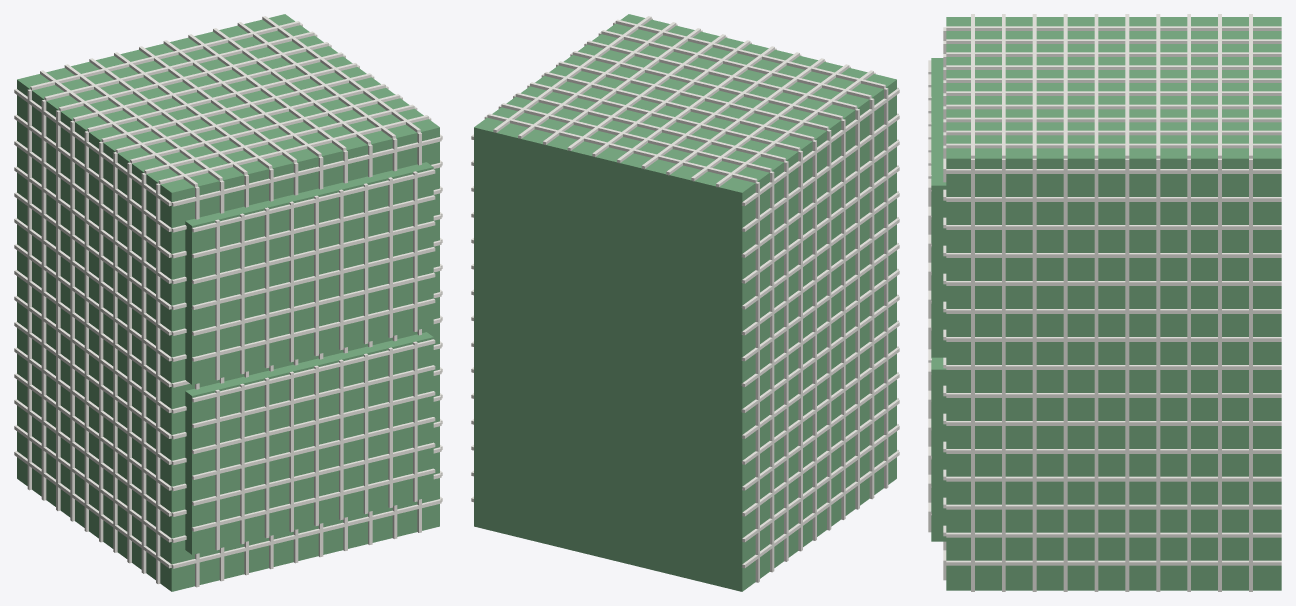
Rendered from store-nightstand-green.glb.
3 views of the same model, side by side, from view 1: azimuth 30°, elevation 25°; view 2: azimuth 150°, elevation 25°; view 3: azimuth 270°, elevation 25° (orthographic). The views are drawn at different scales.
Visible parts, largest first — view 1: nightstand-body, nightstand-drawer-0, nightstand-drawer-1, nightstand-body-left-z-1, nightstand-body-left-z-8, nightstand-body-left-z-7, nightstand-body-left-z-3, nightstand-body-left-z-0, nightstand-body-left-z-4, nightstand-body-left-z-6, nightstand-body-left-z-2, nightstand-body-left-z-9 (+68 smaller); view 2: nightstand-body, nightstand-body-left-z-8, nightstand-body-left-z-2, nightstand-body-left-z-3, nightstand-body-left-z-9, nightstand-body-left-z-4, nightstand-body-left-z-7, nightstand-body-left-z-0, nightstand-body-left-z-1, nightstand-body-left-z-5, nightstand-body-left-z-6, nightstand-body-top-z-9 (+34 smaller); view 3: nightstand-body, nightstand-drawer-1, nightstand-drawer-0, nightstand-body-right-z-3, nightstand-body-right-z-6, nightstand-body-right-z-7, nightstand-body-right-z-4, nightstand-body-right-z-5, nightstand-body-top-x-6, nightstand-body-right-y-3, nightstand-body-top-x-9, nightstand-body-right-y-0 (+36 smaller).
Boxes of the visible parts, bbox=[...] form: nightstand-body: bbox=[17, 14, 439, 591]; nightstand-drawer-0: bbox=[185, 332, 433, 554]; nightstand-drawer-1: bbox=[185, 162, 433, 384]; nightstand-body-left-z-1: bbox=[41, 99, 46, 500]; nightstand-body-left-z-8: bbox=[141, 173, 146, 573]; nightstand-body-left-z-7: bbox=[127, 162, 131, 563]; nightstand-body-left-z-3: bbox=[70, 120, 74, 521]; nightstand-body-left-z-0: bbox=[27, 89, 31, 490]; nightstand-body-left-z-4: bbox=[84, 131, 88, 531]; nightstand-body-left-z-6: bbox=[113, 152, 117, 552]; nightstand-body-left-z-2: bbox=[56, 110, 60, 510]; nightstand-body-left-z-9: bbox=[156, 183, 160, 584]; nightstand-body: bbox=[474, 14, 896, 591]; nightstand-body-left-z-8: bbox=[869, 98, 874, 499]; nightstand-body-left-z-2: bbox=[784, 161, 788, 561]; nightstand-body-left-z-3: bbox=[798, 150, 802, 551]; nightstand-body-left-z-9: bbox=[884, 88, 888, 488]; nightstand-body-left-z-4: bbox=[812, 140, 816, 540]; nightstand-body-left-z-7: bbox=[855, 108, 859, 509]; nightstand-body-left-z-0: bbox=[755, 182, 759, 582]; nightstand-body-left-z-1: bbox=[770, 171, 774, 572]; nightstand-body-left-z-5: bbox=[827, 129, 831, 530]; nightstand-body-left-z-6: bbox=[841, 119, 845, 519]; nightstand-body-top-z-9: bbox=[615, 19, 885, 88]; nightstand-body: bbox=[946, 17, 1281, 590]; nightstand-drawer-1: bbox=[931, 58, 946, 357]; nightstand-drawer-0: bbox=[931, 357, 946, 541]; nightstand-body-right-z-3: bbox=[1156, 158, 1160, 591]; nightstand-body-right-z-6: bbox=[1063, 158, 1067, 591]; nightstand-body-right-z-7: bbox=[1032, 158, 1036, 591]; nightstand-body-right-z-4: bbox=[1125, 158, 1129, 591]; nightstand-body-right-z-5: bbox=[1094, 158, 1098, 591]; nightstand-body-top-x-6: bbox=[946, 104, 1281, 109]; nightstand-body-right-y-3: bbox=[946, 476, 1281, 481]; nightstand-body-top-x-9: bbox=[946, 143, 1281, 148]; nightstand-body-right-y-0: bbox=[946, 560, 1281, 565].
Bounding box in the file's own units: 0.3875 × 0.5437 × 0.4007.
